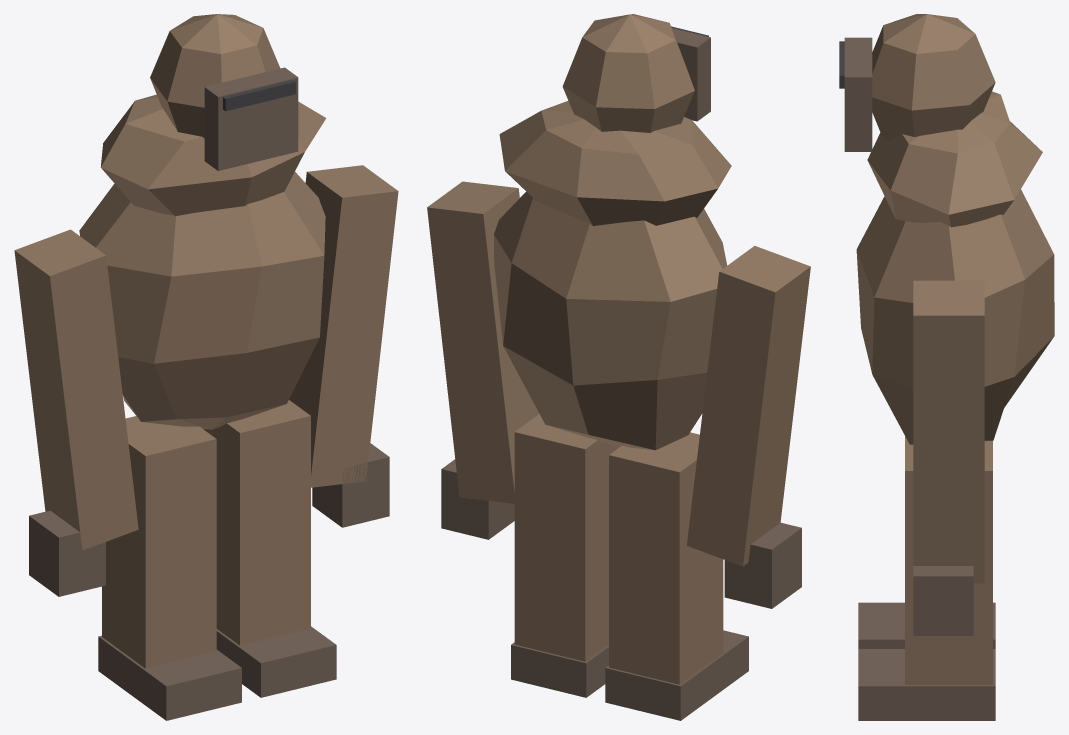
Rendered from sasquatch.glb.
The picture shows the model from 3 angles, left to right: view 1: azimuth 30°, elevation 25°; view 2: azimuth 150°, elevation 25°; view 3: azimuth 270°, elevation 25°; orthographic projection.
Visible parts, largest first — view 1: sasquatch; view 2: sasquatch; view 3: sasquatch.
Part boxes in pixels (bbox=[...]): sasquatch: bbox=[14, 14, 398, 720]; sasquatch: bbox=[427, 14, 810, 720]; sasquatch: bbox=[839, 14, 1054, 720].
Bounding box in the file's own units: 1.48 × 2.68 × 0.7852.
